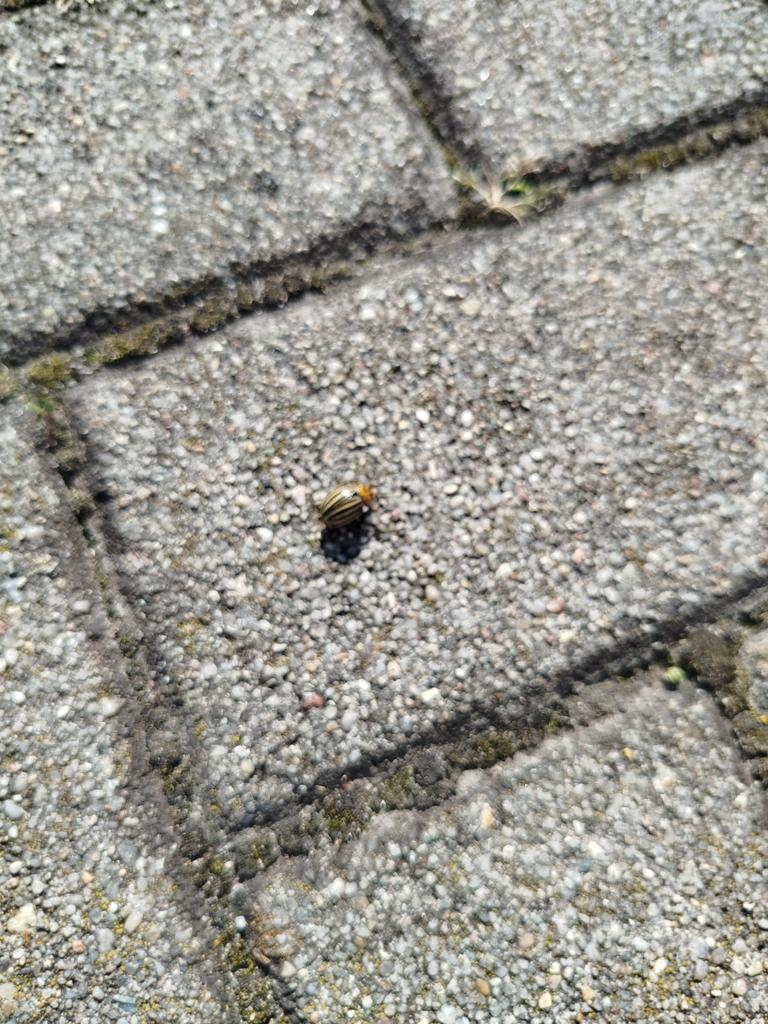potato_beetle: (291, 461, 392, 556)
